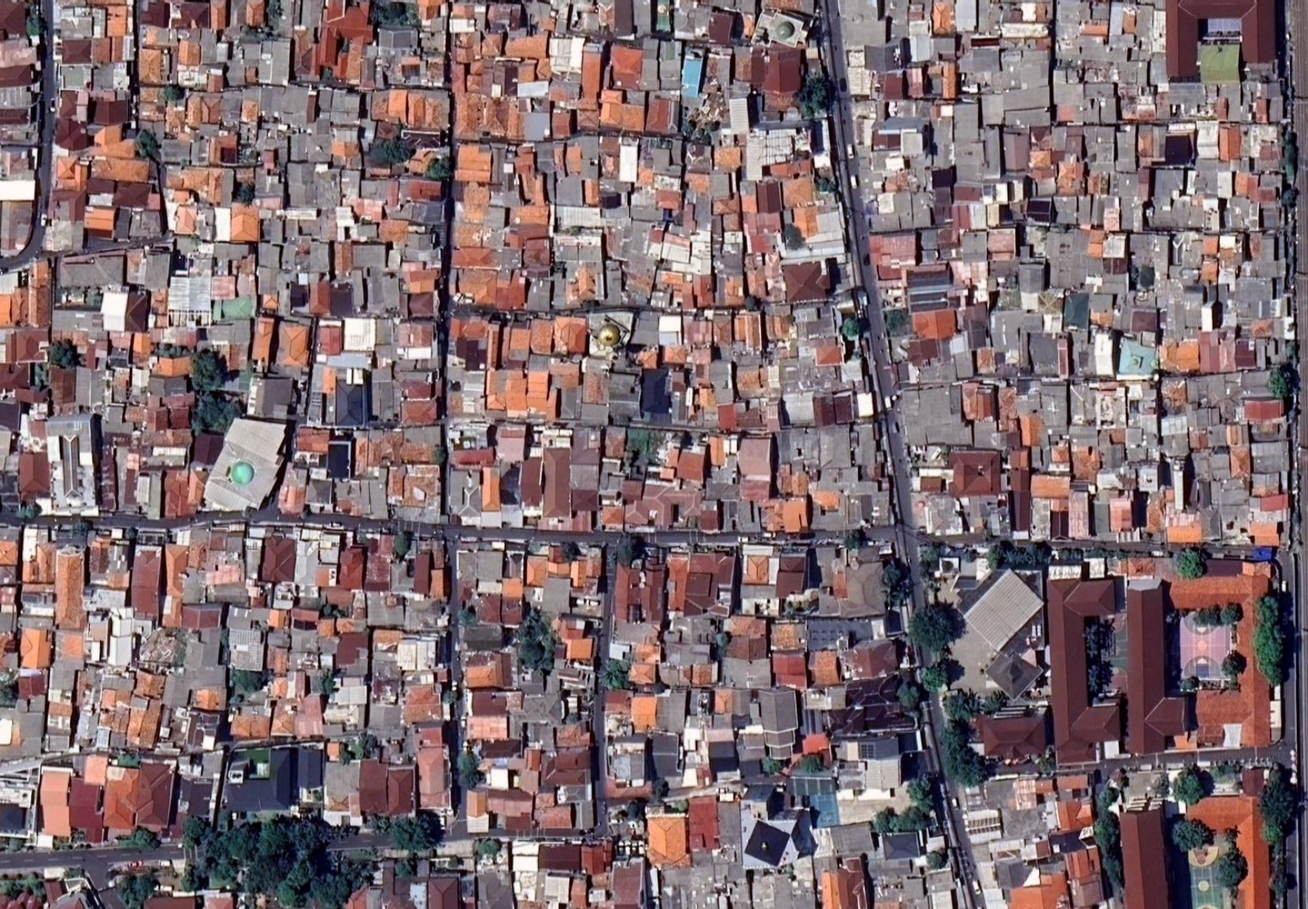building: (1167, 555, 1282, 749), (1045, 575, 1122, 762), (1182, 767, 1273, 909), (1124, 580, 1189, 754), (200, 405, 290, 529), (943, 549, 1046, 652), (1165, 0, 1275, 75), (732, 784, 809, 866), (45, 409, 99, 518), (1116, 798, 1169, 909), (822, 673, 918, 734), (223, 747, 295, 813), (800, 606, 906, 649), (901, 382, 968, 448), (682, 541, 737, 618), (613, 542, 665, 623), (99, 405, 139, 510), (622, 479, 700, 532), (977, 705, 1046, 764), (831, 545, 888, 616), (983, 637, 1046, 701), (835, 746, 931, 787), (128, 528, 164, 634), (608, 619, 663, 686), (172, 744, 223, 816), (838, 631, 914, 678), (834, 781, 916, 823), (165, 257, 214, 327), (811, 488, 894, 528), (36, 763, 74, 846), (290, 526, 341, 587), (778, 195, 846, 240), (136, 755, 177, 829), (101, 762, 139, 841), (989, 309, 1031, 380), (755, 688, 797, 758), (84, 524, 131, 585), (0, 764, 39, 837), (680, 714, 718, 788), (245, 372, 306, 418), (805, 543, 844, 614), (645, 805, 690, 866), (272, 312, 314, 376), (55, 247, 125, 285), (832, 728, 923, 757), (1157, 277, 1198, 341), (948, 448, 1005, 493), (749, 4, 807, 48), (474, 842, 512, 909), (322, 759, 361, 824), (953, 99, 984, 180), (65, 776, 103, 842), (54, 547, 86, 625), (1186, 373, 1240, 419), (811, 462, 883, 496), (399, 134, 452, 180), (14, 450, 50, 517), (401, 464, 441, 523), (660, 436, 709, 484), (781, 256, 834, 300), (1164, 483, 1204, 541), (1000, 800, 1059, 839), (1008, 872, 1070, 909), (413, 746, 450, 808), (713, 847, 750, 909), (902, 262, 951, 308), (305, 363, 340, 426), (923, 492, 968, 541), (112, 206, 165, 247), (363, 362, 398, 424), (772, 860, 816, 909), (744, 249, 784, 302), (541, 447, 571, 517), (49, 627, 83, 688), (1049, 229, 1086, 285), (997, 49, 1051, 87), (607, 732, 648, 782), (1190, 155, 1239, 196), (40, 875, 99, 909), (246, 312, 278, 374), (0, 199, 35, 255), (835, 852, 869, 909), (28, 256, 56, 325), (636, 366, 671, 421), (317, 0, 346, 66), (722, 615, 768, 656), (603, 43, 643, 90), (1106, 555, 1178, 581), (398, 318, 436, 367), (967, 492, 1008, 537), (588, 310, 633, 351), (907, 306, 959, 341), (595, 206, 630, 258), (126, 695, 160, 748), (775, 542, 809, 595), (145, 392, 195, 428), (624, 217, 663, 263), (742, 206, 781, 252), (17, 616, 51, 668), (22, 524, 53, 581), (363, 532, 394, 589), (779, 361, 836, 392), (616, 258, 656, 302), (551, 227, 601, 262), (1089, 380, 1126, 427), (605, 371, 642, 418), (816, 421, 853, 468), (449, 468, 480, 524), (1108, 488, 1140, 542), (53, 4, 107, 36), (86, 121, 135, 156), (763, 44, 801, 89), (792, 298, 837, 336), (872, 117, 925, 149), (781, 232, 846, 258), (274, 463, 307, 514), (687, 796, 720, 847), (18, 694, 46, 754), (162, 187, 197, 235), (184, 706, 223, 749), (226, 626, 264, 670), (1118, 329, 1155, 374), (957, 300, 993, 346), (359, 755, 387, 814), (463, 685, 522, 713), (1124, 414, 1159, 461), (547, 374, 582, 421), (870, 229, 917, 264), (1199, 42, 1241, 81), (741, 542, 780, 584), (951, 258, 989, 301), (613, 856, 645, 907), (1081, 118, 1115, 166), (719, 655, 770, 687), (1086, 487, 1115, 542), (1215, 80, 1252, 123), (657, 864, 692, 909), (540, 750, 589, 782), (973, 418, 1022, 450), (690, 851, 717, 909), (226, 38, 260, 84), (827, 820, 873, 854), (90, 154, 150, 180), (1067, 870, 1108, 908), (108, 604, 133, 666), (705, 452, 740, 496), (1053, 0, 1080, 57), (499, 461, 523, 525), (707, 738, 741, 783), (664, 547, 689, 608), (0, 102, 38, 142), (259, 36, 290, 85), (993, 855, 1039, 888), (735, 729, 768, 775), (652, 731, 681, 783), (1013, 775, 1057, 809), (666, 611, 719, 639), (138, 44, 176, 83), (364, 588, 404, 625), (400, 425, 440, 462), (907, 356, 956, 386), (1002, 84, 1051, 114), (579, 39, 603, 100), (387, 763, 415, 815), (144, 237, 173, 287), (326, 428, 355, 478), (680, 45, 705, 103), (533, 789, 571, 827), (219, 0, 251, 45), (771, 649, 807, 689), (876, 827, 921, 859), (454, 269, 495, 304), (161, 541, 188, 594), (262, 538, 296, 580), (1165, 117, 1196, 163), (1019, 285, 1065, 316), (647, 89, 678, 135), (865, 848, 911, 879), (652, 687, 685, 730), (1236, 315, 1295, 339), (134, 467, 161, 519), (182, 627, 218, 666), (1062, 845, 1102, 880), (191, 428, 226, 468), (713, 127, 748, 167), (729, 683, 760, 728), (335, 633, 369, 674), (271, 583, 319, 612), (306, 467, 336, 513), (385, 200, 445, 223), (83, 609, 109, 662), (350, 243, 401, 270), (40, 218, 83, 250), (228, 707, 271, 739), (738, 583, 781, 615), (113, 179, 162, 207), (396, 368, 440, 399), (603, 687, 632, 734), (807, 645, 840, 686), (209, 294, 259, 321), (634, 133, 659, 187), (1234, 336, 1276, 368), (359, 44, 388, 90), (478, 467, 501, 525), (964, 807, 1002, 842), (18, 581, 56, 616), (452, 181, 487, 219), (1056, 796, 1095, 830), (1170, 80, 1209, 114), (808, 114, 834, 165), (993, 381, 1020, 430), (269, 695, 299, 739), (457, 141, 490, 181), (999, 126, 1029, 170), (335, 377, 363, 424), (205, 318, 250, 347), (1220, 503, 1251, 545), (322, 703, 364, 734), (851, 422, 882, 464), (291, 26, 317, 76), (1078, 33, 1128, 59), (548, 34, 583, 71), (484, 173, 522, 207), (447, 418, 493, 446), (982, 175, 1022, 207), (88, 92, 132, 121), (845, 46, 871, 95), (470, 736, 523, 760), (739, 433, 770, 474), (48, 364, 76, 409), (286, 160, 314, 205), (1016, 247, 1046, 289), (0, 145, 37, 179), (657, 230, 694, 264), (809, 330, 846, 364), (722, 498, 760, 531), (297, 739, 323, 787), (176, 63, 224, 89), (364, 465, 388, 517), (404, 225, 443, 257), (494, 420, 526, 459), (569, 554, 598, 597), (1253, 126, 1282, 169), (523, 370, 550, 416), (460, 624, 504, 652), (554, 633, 598, 661), (344, 0, 374, 41), (14, 326, 49, 361), (839, 18, 888, 43), (161, 470, 187, 517), (365, 274, 398, 311), (1050, 69, 1083, 106), (293, 692, 322, 734), (405, 597, 447, 626), (711, 169, 740, 211), (314, 160, 341, 205), (455, 91, 482, 136), (537, 842, 580, 870), (745, 866, 773, 909), (1068, 489, 1092, 539), (74, 365, 104, 405), (417, 629, 447, 669), (599, 456, 624, 504), (717, 793, 741, 843), (920, 861, 960, 891), (455, 547, 478, 599), (663, 641, 715, 664), (1125, 378, 1158, 414), (290, 609, 317, 653), (504, 29, 548, 56), (629, 308, 662, 344), (213, 242, 250, 274), (1251, 440, 1289, 471), (46, 188, 84, 219), (230, 202, 261, 240), (447, 336, 485, 367), (92, 61, 134, 89), (671, 372, 696, 419), (816, 857, 839, 908), (1041, 379, 1067, 424), (162, 164, 207, 190), (444, 367, 487, 394), (1103, 230, 1130, 273), (331, 125, 360, 165), (522, 457, 542, 515), (1236, 295, 1294, 315), (103, 1, 136, 36), (484, 315, 505, 370), (835, 355, 868, 390), (1140, 485, 1164, 533), (712, 271, 744, 307), (505, 367, 528, 417), (1071, 327, 1096, 373), (205, 164, 233, 205), (83, 203, 114, 240), (524, 235, 555, 272), (1119, 46, 1150, 83), (779, 493, 810, 530), (0, 34, 38, 64), (281, 85, 308, 127), (400, 261, 439, 290), (495, 270, 524, 309), (506, 756, 539, 790), (781, 390, 814, 424), (537, 512, 593, 532), (91, 36, 134, 62), (1029, 334, 1055, 377), (1192, 446, 1229, 476), (1248, 470, 1289, 497), (186, 467, 210, 513), (397, 126, 445, 149), (382, 54, 420, 83), (806, 790, 835, 828), (239, 85, 259, 140), (1235, 274, 1285, 296), (1062, 291, 1090, 330), (55, 87, 89, 119), (50, 154, 85, 185), (343, 316, 374, 351), (151, 324, 196, 348), (523, 693, 559, 723), (982, 122, 1002, 176), (1093, 326, 1115, 375), (339, 544, 364, 587), (491, 645, 516, 688), (334, 478, 363, 515), (732, 308, 761, 345), (931, 115, 952, 166), (621, 89, 647, 130), (378, 24, 416, 52), (953, 201, 991, 229), (125, 286, 148, 332), (307, 85, 330, 131), (488, 788, 532, 812), (869, 190, 913, 214), (768, 154, 812, 178), (801, 734, 833, 767), (53, 119, 87, 150), (330, 87, 361, 121), (393, 877, 427, 908), (1071, 444, 1098, 483), (596, 89, 623, 128), (1095, 462, 1137, 487), (101, 289, 126, 331), (397, 290, 439, 315), (506, 322, 531, 364), (0, 705, 19, 760), (131, 669, 167, 698), (913, 464, 949, 493), (1223, 198, 1259, 227), (884, 0, 913, 36), (1069, 383, 1095, 423), (230, 254, 256, 294), (746, 127, 766, 179), (714, 232, 740, 272), (630, 691, 656, 731), (927, 59, 955, 96), (508, 203, 555, 225), (328, 675, 366, 702), (171, 0, 209, 27), (572, 424, 599, 462), (449, 310, 487, 337), (654, 136, 681, 174), (803, 685, 844, 710), (427, 876, 459, 908), (160, 674, 191, 707), (774, 462, 807, 493), (1149, 0, 1169, 51), (639, 37, 659, 88), (706, 9, 736, 43), (781, 176, 815, 206), (279, 234, 308, 269), (763, 302, 791, 338), (958, 47, 998, 72), (294, 426, 331, 453), (553, 720, 590, 747), (543, 872, 570, 909), (486, 1, 523, 28), (1151, 164, 1182, 196), (872, 69, 904, 100), (450, 445, 495, 467), (659, 40, 681, 85), (181, 604, 224, 627), (422, 91, 448, 129), (759, 86, 797, 112), (1004, 105, 1051, 126), (561, 661, 595, 690), (709, 358, 733, 399), (1240, 369, 1275, 397), (315, 317, 343, 352), (1115, 120, 1135, 169), (864, 214, 913, 234), (1248, 415, 1287, 440), (791, 426, 816, 465), (1098, 428, 1125, 464), (1019, 412, 1046, 448), (212, 344, 248, 371), (543, 575, 570, 611), (586, 872, 613, 908), (142, 427, 193, 446), (1237, 256, 1288, 275), (219, 88, 241, 132), (734, 45, 760, 82), (768, 126, 794, 163), (86, 585, 126, 609), (402, 702, 450, 722), (1218, 118, 1242, 158), (581, 841, 610, 874), (17, 667, 51, 695), (1119, 197, 1147, 231), (769, 619, 803, 647), (1211, 478, 1249, 503), (0, 82, 43, 104), (444, 391, 487, 413), (165, 89, 186, 134), (200, 27, 227, 62), (986, 227, 1013, 262), (730, 84, 751, 129), (577, 264, 604, 299), (690, 228, 711, 273), (226, 603, 265, 627), (468, 715, 507, 739), (1195, 118, 1219, 157), (909, 190, 935, 226), (671, 0, 696, 37), (210, 131, 238, 164), (375, 318, 397, 360), (581, 370, 609, 403), (506, 222, 550, 243), (961, 228, 989, 261), (602, 262, 624, 304), (899, 876, 927, 909), (1030, 473, 1070, 496), (76, 708, 99, 748), (400, 399, 440, 422), (973, 380, 996, 420), (53, 38, 91, 62), (345, 40, 366, 83), (786, 771, 831, 791), (1260, 228, 1289, 259), (555, 175, 584, 206), (906, 335, 938, 363), (451, 246, 498, 265), (554, 206, 601, 225), (937, 225, 964, 258), (547, 71, 580, 98), (735, 395, 762, 428), (733, 361, 760, 394), (997, 35, 1052, 51), (1015, 378, 1040, 413), (1219, 232, 1244, 267), (869, 147, 904, 172), (811, 389, 836, 424), (188, 685, 226, 708), (177, 25, 200, 63), (549, 354, 579, 383), (1049, 194, 1079, 223), (863, 41, 895, 68), (570, 0, 597, 32), (684, 312, 711, 344), (868, 879, 900, 906), (185, 665, 226, 686), (1241, 398, 1284, 418), (475, 545, 501, 578), (521, 170, 547, 203), (902, 61, 928, 94), (574, 97, 600, 130), (756, 177, 782, 210), (619, 134, 638, 179), (606, 781, 651, 800), (1168, 458, 1185, 508), (1011, 489, 1028, 539), (1128, 231, 1153, 265), (1185, 400, 1220, 424), (0, 360, 30, 388), (107, 330, 131, 365), (1203, 194, 1224, 234), (1131, 0, 1152, 40), (599, 134, 619, 176), (1030, 497, 1049, 541), (530, 315, 552, 353), (774, 339, 812, 361), (368, 703, 400, 729), (554, 747, 590, 770), (1198, 330, 1218, 371), (0, 522, 20, 563), (918, 223, 938, 264), (153, 354, 192, 375), (486, 369, 505, 412), (140, 85, 164, 119), (412, 723, 449, 745), (908, 2, 930, 39), (485, 96, 507, 133), (986, 778, 1014, 807), (474, 593, 502, 622), (931, 35, 959, 64), (705, 711, 733, 740), (684, 140, 711, 170), (81, 752, 107, 783), (138, 0, 169, 26), (257, 85, 283, 116), (1028, 149, 1054, 180), (1161, 376, 1184, 411), (329, 277, 352, 312), (1249, 492, 1289, 512), (0, 1, 25, 33), (524, 276, 549, 308), (972, 344, 997, 376), (1148, 194, 1173, 226), (988, 837, 1026, 858), (397, 631, 418, 669), (141, 893, 194, 908), (111, 687, 129, 731), (57, 64, 90, 88), (333, 205, 355, 241), (1089, 292, 1113, 325), (1169, 189, 1191, 225), (85, 178, 114, 205), (254, 166, 283, 193), (525, 721, 554, 748), (453, 220, 482, 247), (1084, 165, 1111, 194), (527, 0, 556, 27), (699, 496, 722, 530), (149, 446, 188, 466), (553, 783, 592, 803), (568, 312, 588, 351), (839, 0, 878, 20), (613, 0, 633, 39), (507, 97, 526, 138), (139, 24, 176, 45), (1213, 300, 1238, 331), (974, 858, 998, 890), (159, 594, 183, 626), (1057, 159, 1081, 191), (404, 683, 444, 702), (486, 205, 506, 243), (711, 308, 731, 346), (691, 272, 714, 305), (760, 394, 783, 427), (412, 551, 430, 593), (380, 428, 401, 464), (405, 87, 423, 129), (419, 0, 446, 28), (1109, 168, 1137, 195), (1025, 196, 1052, 224), (1147, 53, 1168, 89), (596, 505, 622, 534), (658, 311, 683, 341), (0, 584, 17, 628), (308, 277, 330, 311), (568, 486, 599, 510), (658, 663, 689, 687), (931, 889, 970, 908), (930, 187, 950, 224), (0, 630, 18, 671), (258, 267, 276, 308), (580, 136, 598, 177), (186, 538, 209, 570), (308, 241, 331, 273), (906, 151, 927, 186), (926, 164, 954, 190), (523, 109, 549, 137), (1050, 830, 1083, 852), (391, 557, 413, 590), (129, 365, 148, 403), (207, 582, 245, 601), (1175, 339, 1199, 369), (1183, 289, 1203, 325), (109, 365, 129, 401), (183, 572, 207, 602), (1258, 205, 1288, 229), (960, 70, 1000, 88), (652, 185, 682, 209), (0, 396, 21, 430), (0, 63, 34, 84), (1119, 99, 1153, 120), (516, 77, 550, 98), (463, 662, 494, 685), (501, 546, 524, 577), (547, 542, 570, 573), (540, 422, 571, 445), (603, 425, 626, 456), (741, 475, 772, 498), (1182, 231, 1201, 268), (795, 116, 814, 153), (385, 465, 403, 504), (551, 313, 569, 352), (904, 35, 931, 61), (0, 178, 35, 198), (306, 132, 331, 160), (851, 118, 876, 146), (148, 376, 189, 393), (1258, 172, 1282, 201), (492, 64, 516, 93), (933, 1, 954, 34), (1159, 433, 1189, 456), (160, 139, 190, 162), (1235, 169, 1258, 199), (490, 140, 506, 183), (289, 275, 308, 311), (408, 179, 444, 198), (388, 87, 406, 125), (555, 616, 586, 638), (514, 141, 536, 172), (97, 686, 114, 726), (245, 580, 271, 606), (419, 30, 445, 56), (460, 859, 474, 907), (525, 553, 546, 585), (951, 350, 975, 378), (887, 100, 929, 116), (564, 690, 593, 713), (1201, 504, 1220, 539), (126, 246, 145, 281), (132, 329, 151, 364), (1230, 444, 1250, 477), (0, 893, 44, 908), (320, 587, 353, 607), (202, 90, 222, 123), (692, 5, 712, 38), (832, 389, 853, 420), (297, 0, 322, 26), (690, 661, 716, 686), (1251, 520, 1278, 544), (1130, 306, 1157, 330), (570, 801, 594, 828), (634, 0, 652, 36), (100, 669, 134, 688), (1136, 461, 1159, 489), (571, 463, 599, 486), (851, 389, 874, 417), (430, 566, 450, 598), (1152, 262, 1168, 302), (954, 0, 974, 32), (355, 199, 384, 221), (254, 195, 283, 217), (514, 871, 536, 900), (12, 384, 47, 402), (1056, 331, 1070, 376), (1170, 264, 1200, 285), (982, 93, 1003, 123), (11, 286, 28, 323), (1048, 120, 1067, 153), (137, 118, 162, 143), (683, 172, 710, 195), (800, 708, 827, 731), (580, 401, 608, 423), (688, 685, 710, 713), (370, 86, 388, 120), (1108, 2, 1126, 36), (773, 428, 790, 464), (501, 596, 522, 625), (733, 10, 754, 39), (1252, 507, 1290, 523), (243, 547, 262, 579), (1064, 123, 1083, 155), (405, 669, 448, 683), (264, 647, 288, 672), (123, 402, 147, 427), (1268, 81, 1283, 121), (877, 263, 902, 287), (950, 177, 980, 197), (978, 1, 998, 31), (534, 140, 554, 170), (364, 151, 390, 174), (253, 243, 279, 266), (344, 883, 367, 909), (1101, 268, 1127, 291), (927, 99, 953, 122), (1134, 163, 1151, 198), (1160, 413, 1187, 435), (380, 220, 407, 242), (360, 116, 378, 149), (1020, 839, 1051, 858), (359, 177, 387, 198), (381, 859, 393, 908), (987, 256, 1015, 277), (1000, 23, 1049, 35), (1056, 773, 1090, 790), (629, 203, 663, 220), (355, 428, 367, 476), (1101, 196, 1119, 228), (739, 178, 757, 210), (210, 275, 236, 297), (340, 166, 359, 196), (466, 787, 485, 817), (1136, 123, 1151, 161), (717, 46, 732, 84), (1037, 853, 1064, 874), (1218, 338, 1235, 371), (169, 810, 186, 843), (200, 891, 233, 908), (334, 240, 351, 273), (1045, 561, 1080, 577), (290, 449, 325, 465), (317, 205, 333, 240), (1154, 230, 1170, 265), (652, 267, 683, 285), (1225, 421, 1249, 444), (520, 669, 544, 692), (1195, 724, 1224, 743), (375, 722, 404, 741), (760, 361, 779, 390), (648, 281, 670, 306), (1172, 729, 1198, 750), (981, 887, 1007, 908), (367, 869, 381, 908), (585, 544, 602, 576), (570, 878, 588, 908), (1126, 289, 1156, 307), (1114, 291, 1129, 327), (1151, 123, 1166, 159), (1068, 424, 1096, 443), (196, 205, 212, 238), (709, 431, 725, 464), (553, 1, 570, 32), (551, 109, 572, 134), (423, 60, 443, 86), (381, 741, 407, 761), (880, 171, 906, 191), (366, 428, 380, 465), (372, 120, 399, 139), (1198, 254, 1217, 281), (1219, 266, 1235, 298), (1159, 339, 1176, 369), (1084, 256, 1101, 286), (1078, 20, 1108, 37), (260, 219, 283, 241), (859, 168, 881, 191), (1051, 511, 1069, 539), (1008, 445, 1029, 469), (186, 89, 200, 125), (562, 278, 580, 306), (1054, 103, 1079, 123), (214, 207, 229, 240), (288, 133, 307, 159), (716, 401, 735, 427), (713, 685, 732, 711), (1154, 92, 1172, 119), (704, 51, 722, 78), (1029, 127, 1051, 149), (963, 380, 976, 417), (1246, 229, 1262, 259), (1090, 192, 1105, 224), (1081, 82, 1113, 97), (482, 32, 502, 56), (453, 29, 481, 46), (770, 0, 813, 11), (696, 191, 709, 227), (970, 32, 999, 48), (447, 16, 476, 32), (628, 189, 657, 205), (0, 326, 14, 359), (267, 607, 289, 628), (1168, 230, 1182, 263), (517, 57, 538, 79), (566, 138, 580, 171), (315, 633, 338, 653), (287, 670, 304, 697), (582, 353, 609, 370), (189, 138, 208, 162), (352, 267, 364, 305), (336, 617, 366, 632), (450, 60, 465, 90), (210, 1, 226, 29), (331, 49, 347, 77), (510, 840, 538, 856), (1188, 196, 1202, 228), (1087, 230, 1104, 256), (500, 577, 522, 597), (964, 783, 983, 806), (653, 173, 682, 188), (518, 96, 549, 110), (1082, 556, 1106, 574), (513, 854, 537, 872), (635, 350, 659, 368), (696, 384, 714, 408), (1239, 122, 1252, 155), (285, 205, 315, 219), (501, 814, 531, 828), (1244, 59, 1274, 73), (552, 140, 566, 170), (1207, 423, 1226, 445), (1010, 468, 1029, 490), (1253, 96, 1269, 122), (551, 275, 564, 307), (1080, 99, 1097, 123), (687, 343, 711, 360), (1123, 4, 1137, 33), (603, 177, 632, 191), (680, 280, 694, 309), (246, 0, 262, 25), (1099, 98, 1115, 123), (449, 45, 474, 61), (1188, 425, 1207, 446), (1034, 2, 1053, 23), (1002, 2, 1021, 23), (466, 813, 488, 831), (1020, 2, 1038, 24), (663, 343, 685, 361), (372, 629, 400, 643), (1077, 195, 1091, 223), (355, 222, 378, 239), (476, 576, 499, 593), (1101, 739, 1120, 759), (1091, 0, 1110, 20), (969, 843, 990, 861), (528, 351, 549, 369), (693, 360, 711, 381), (1197, 478, 1210, 507), (1223, 723, 1240, 745), (1051, 439, 1068, 461), (0, 291, 11, 325), (599, 188, 621, 205), (583, 179, 598, 203), (277, 267, 294, 288), (1041, 313, 1062, 330), (0, 270, 16, 292), (432, 538, 445, 565), (683, 194, 693, 229), (266, 630, 289, 645), (489, 767, 507, 786), (872, 100, 889, 120), (199, 121, 220, 137), (598, 1, 612, 25), (946, 334, 964, 352), (1203, 231, 1217, 254), (178, 125, 199, 140), (451, 0, 472, 15), (509, 713, 522, 737), (474, 3, 486, 29), (317, 616, 334, 634), (501, 250, 519, 267), (723, 212, 740, 230), (480, 71, 493, 94), (525, 749, 539, 770), (1079, 1, 1093, 22), (0, 566, 17, 583), (277, 289, 289, 313), (988, 202, 1001, 224), (299, 219, 318, 234), (1201, 304, 1212, 329), (1050, 496, 1068, 511), (1040, 444, 1050, 471), (283, 218, 297, 237), (235, 167, 254, 181), (387, 176, 398, 200), (109, 732, 126, 747), (469, 56, 486, 71), (274, 675, 286, 696), (96, 728, 109, 747), (467, 74, 482, 90), (263, 148, 275, 167), (326, 740, 339, 757), (1047, 461, 1069, 471), (399, 176, 409, 198), (387, 162, 405, 174), (546, 673, 558, 691), (709, 215, 723, 230), (1032, 443, 1041, 466), (1047, 423, 1067, 433), (417, 537, 430, 552), (711, 0, 734, 8), (1015, 379, 1027, 393), (1255, 82, 1267, 96), (735, 1, 755, 8), (553, 659, 564, 671), (1049, 434, 1059, 444)
tree: (925, 712, 996, 795), (1247, 763, 1308, 847), (899, 589, 970, 660), (384, 805, 448, 861), (297, 856, 364, 909), (1253, 592, 1290, 685), (1163, 756, 1219, 813), (240, 842, 295, 898), (190, 387, 246, 434), (183, 344, 234, 395), (1207, 844, 1256, 893), (914, 651, 964, 699), (367, 125, 418, 171), (290, 814, 359, 847), (255, 811, 300, 861), (220, 816, 264, 866), (1167, 814, 1218, 857), (282, 843, 326, 892), (194, 827, 250, 863), (985, 539, 1053, 568), (173, 809, 214, 854), (904, 776, 946, 818), (207, 855, 248, 895), (114, 871, 158, 908), (795, 76, 833, 118), (892, 675, 930, 716), (452, 747, 486, 790), (882, 557, 912, 605), (940, 686, 981, 721), (0, 873, 45, 901), (126, 823, 165, 855), (1216, 647, 1251, 682), (1100, 845, 1127, 890), (1266, 866, 1300, 900), (1268, 363, 1301, 398), (797, 746, 832, 779), (898, 803, 936, 833), (981, 686, 1015, 719), (344, 858, 382, 887), (1281, 125, 1301, 180), (130, 127, 162, 161), (871, 805, 905, 837), (1088, 655, 1111, 701), (518, 636, 550, 669), (519, 609, 552, 641), (1175, 548, 1208, 579), (375, 0, 417, 24), (1084, 621, 1108, 662), (919, 543, 942, 585), (352, 730, 383, 761), (601, 657, 630, 690), (196, 849, 230, 877), (312, 670, 342, 700), (232, 180, 262, 210), (48, 339, 79, 368), (1095, 811, 1119, 848), (274, 882, 309, 907), (437, 679, 468, 707), (424, 155, 456, 182), (232, 670, 266, 694), (180, 864, 210, 891), (616, 530, 643, 559), (474, 835, 505, 860), (1194, 605, 1224, 629), (0, 834, 34, 855), (842, 528, 876, 549), (883, 307, 913, 330), (25, 3, 45, 36), (15, 499, 41, 524), (337, 744, 362, 769), (783, 223, 806, 250), (1081, 546, 1137, 557), (1219, 602, 1243, 627), (69, 519, 93, 543), (454, 602, 477, 627), (623, 798, 646, 823), (239, 24, 270, 42), (560, 539, 582, 563), (394, 857, 419, 878), (763, 756, 790, 775), (226, 686, 248, 709), (264, 0, 286, 23), (652, 779, 670, 807), (926, 849, 950, 870), (0, 680, 19, 706), (162, 83, 186, 103), (842, 315, 862, 339), (115, 751, 141, 768), (694, 125, 715, 146), (815, 174, 838, 193), (1040, 751, 1058, 775), (371, 814, 392, 834), (1102, 784, 1117, 810), (680, 117, 698, 136), (308, 785, 324, 805), (1056, 547, 1072, 561), (705, 120, 718, 131)
